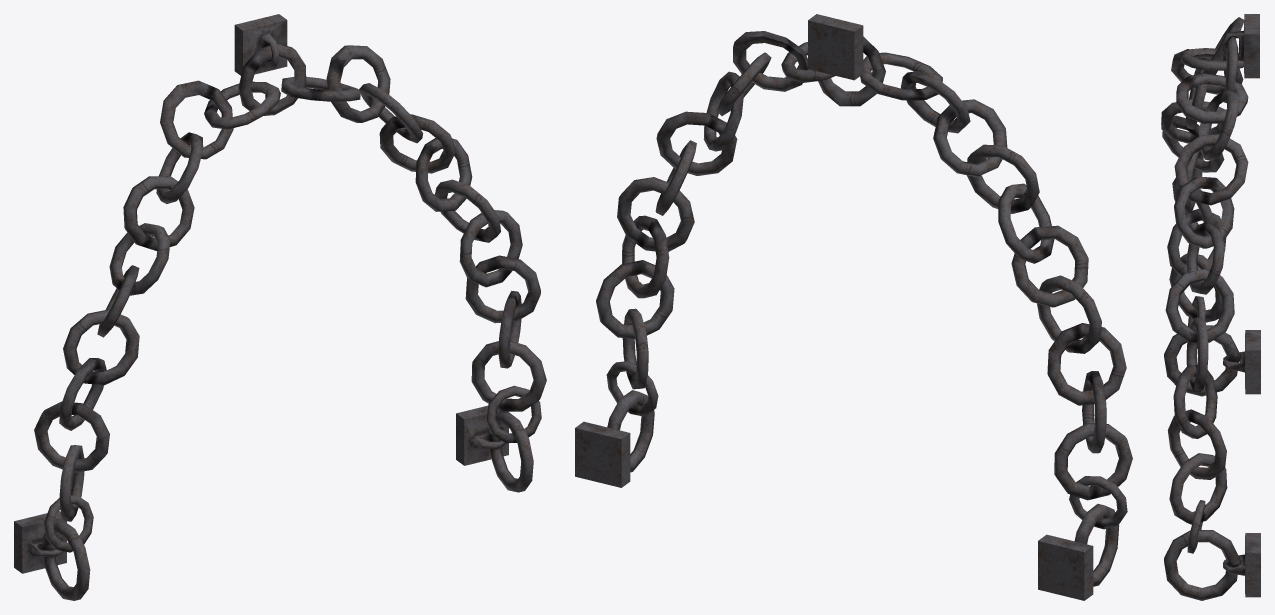
Rendered from Castle Wall Ring Chain 07.fbx.
3 views of the same model, side by side, from view 1: azimuth 30°, elevation 25°; view 2: azimuth 150°, elevation 25°; view 3: azimuth 270°, elevation 25° (orthographic). The views are drawn at different scales.
Parts seen in each view (by area): view 1: Cube_001; view 2: Cube_001; view 3: Cube_001.
Part boxes in pixels (left/top/right/bottom): Cube_001: left=14, top=14, right=546, bottom=600; Cube_001: left=575, top=14, right=1132, bottom=600; Cube_001: left=1161, top=14, right=1260, bottom=600.
Bounding box in the file's own units: 137 × 133 × 25.37.
